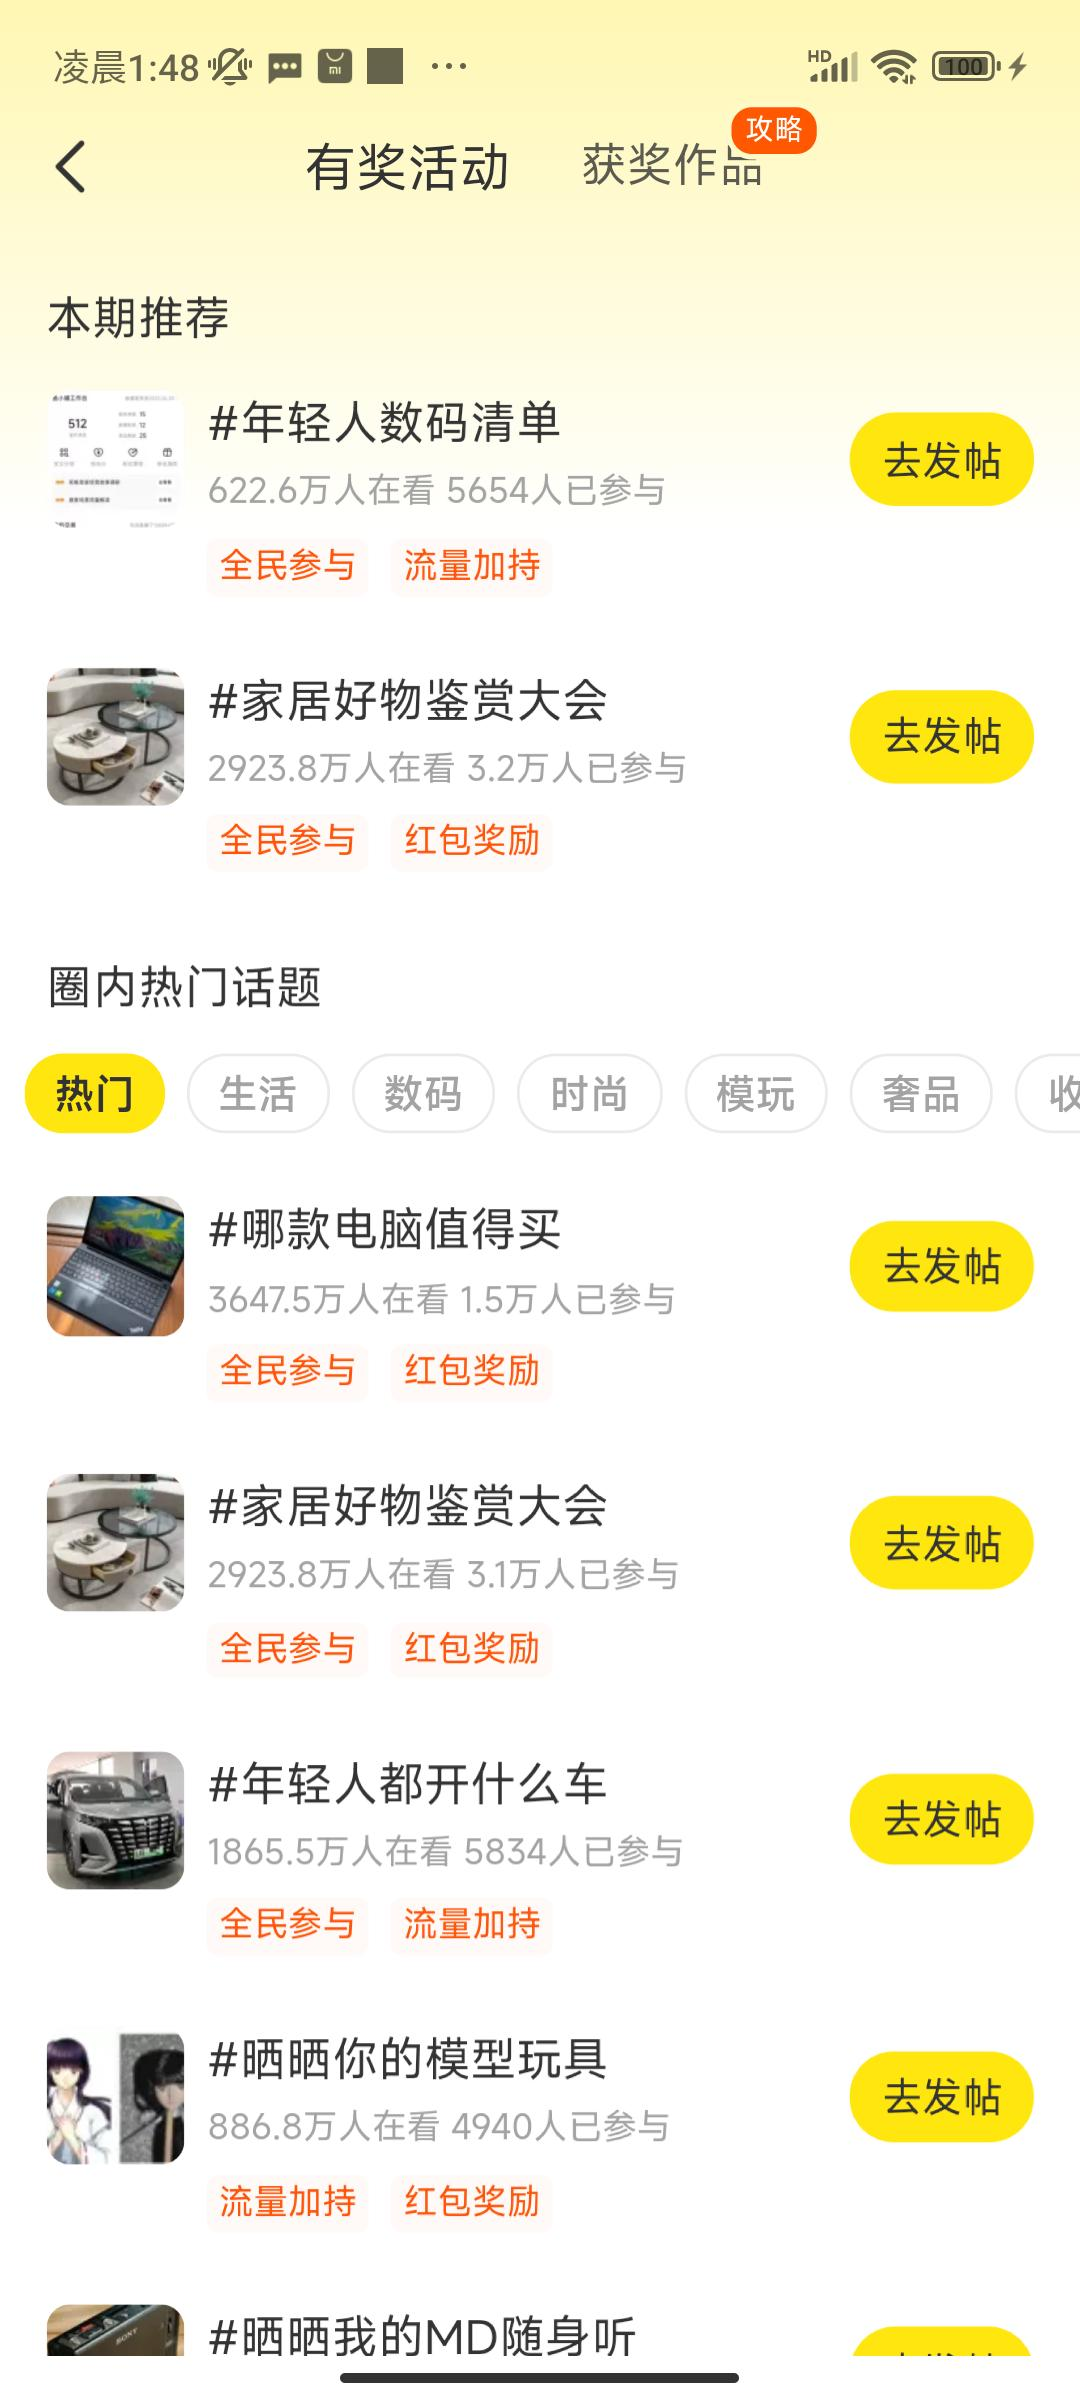ui_group: (23, 631, 1072, 931), (15, 1727, 1065, 1987), (23, 1177, 1057, 1433), (24, 360, 1080, 606), (15, 2010, 1069, 2242), (20, 1469, 1062, 1694), (571, 98, 844, 248), (278, 116, 528, 227), (17, 1035, 177, 1156)
